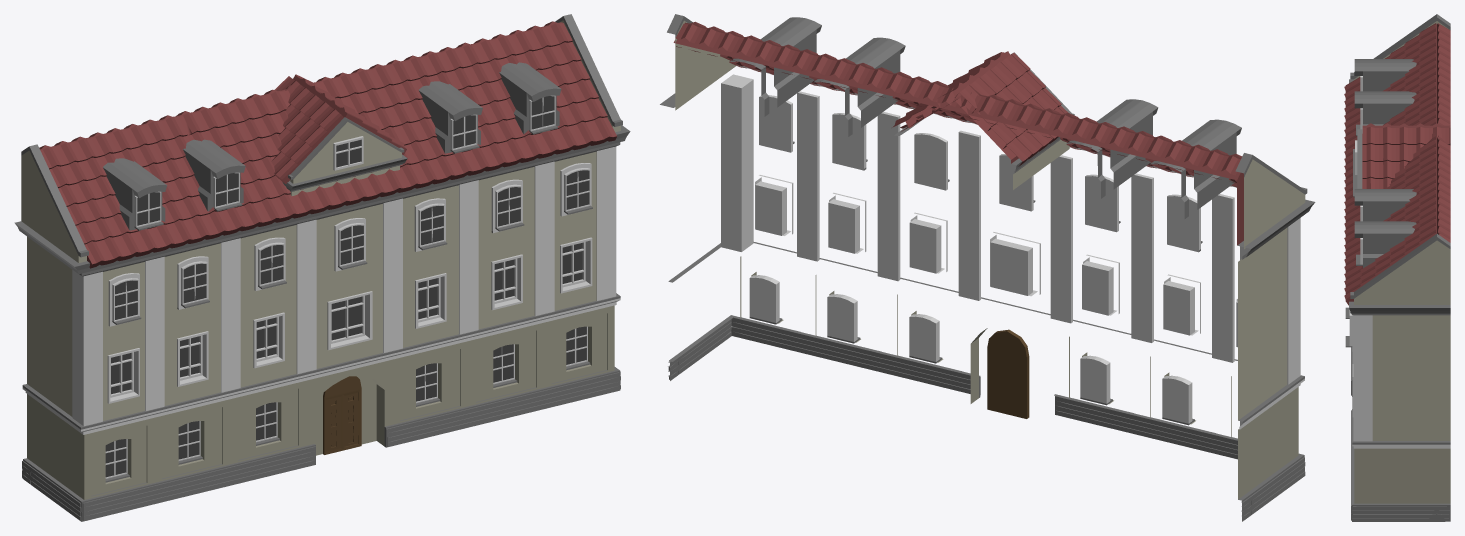
Rendered from pinkhouse.glb.
The picture shows the model from 3 angles, left to right: view 1: azimuth 30°, elevation 25°; view 2: azimuth 150°, elevation 25°; view 3: azimuth 270°, elevation 25°; orthographic projection. The views are drawn at different scales.
Parts seen in each view (by area): view 1: pinkhouse; view 2: pinkhouse; view 3: pinkhouse.
Boxes of the visible parts, x1,y1,x2,y2 form: pinkhouse: (14, 14, 630, 521); pinkhouse: (660, 14, 1315, 521); pinkhouse: (1344, 14, 1450, 521).
Bounding box in the file's own units: 21.33 × 12.47 × 4.2.
